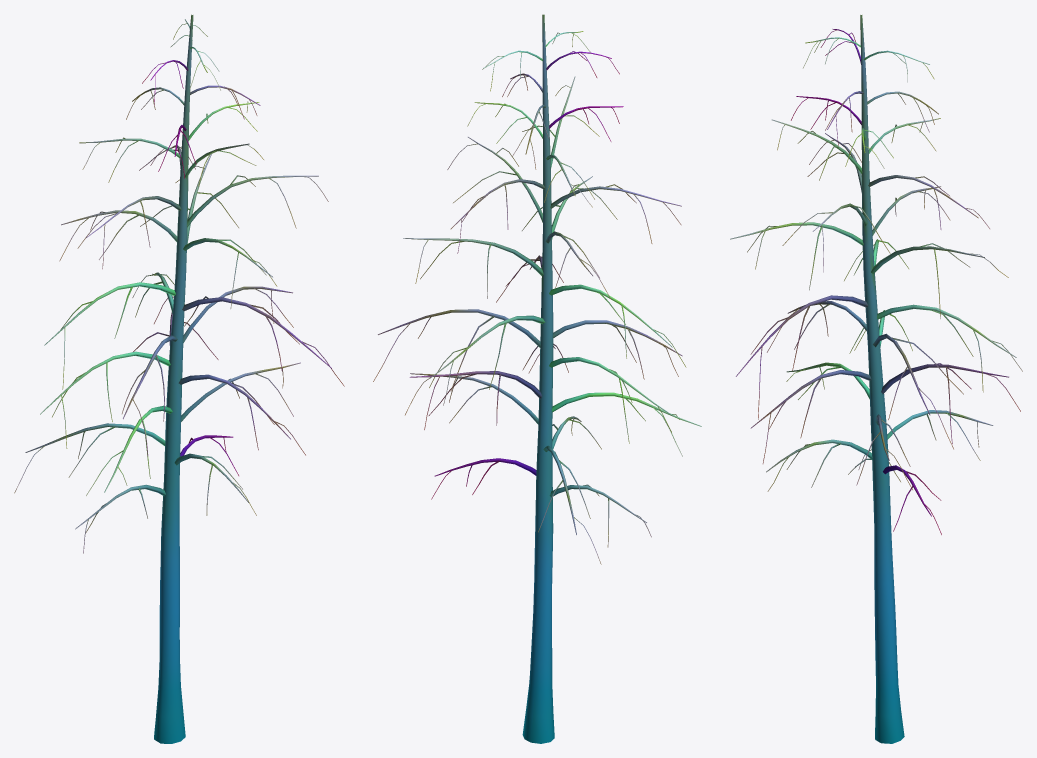
Rendered from birch-grove-a.glb.
3 views of the same model, side by side, from view 1: azimuth 30°, elevation 25°; view 2: azimuth 150°, elevation 25°; view 3: azimuth 270°, elevation 25° (orthographic). The views are drawn at different scales.
Parts seen in each view (by area): view 1: bark; view 2: bark; view 3: bark.
Boxes of the visible parts, x1,y1,x2,y2 form: bark: (14,14,344,743); bark: (373,14,701,743); bark: (730,15,1022,743).
Size of the model in its own units: 5.91 by 14.8 by 5.4.
